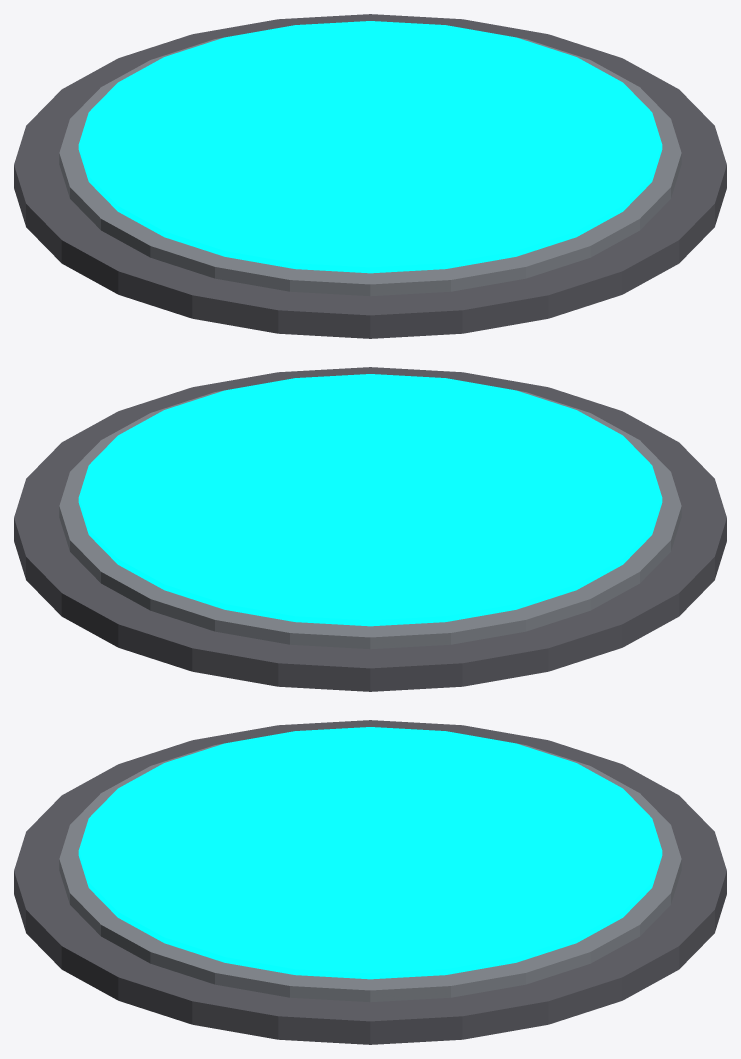
File: DETAIL_Manhole_Cover.glb
3 renders of one model, top to bottom at view 1: azimuth 30°, elevation 25°; view 2: azimuth 150°, elevation 25°; view 3: azimuth 270°, elevation 25°, orthographic.
Parts seen in each view (by area): view 1: DETAIL_Manhole_Cover; view 2: DETAIL_Manhole_Cover; view 3: DETAIL_Manhole_Cover.
Part boxes in pixels (<box>): DETAIL_Manhole_Cover: <box>14,14,726,338</box>; DETAIL_Manhole_Cover: <box>14,367,726,691</box>; DETAIL_Manhole_Cover: <box>14,720,726,1044</box>.
Size of the model in its own units: 1.1 by 0.075 by 1.1.
